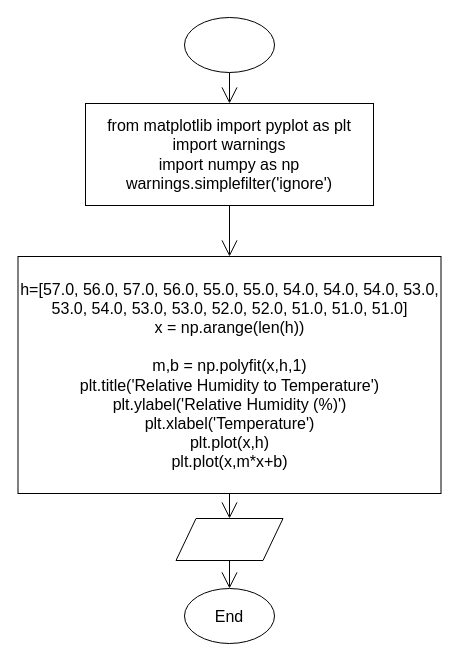
Image size: 458x661. Some labels were removed from this diagram. The box of each missing label's shape, as (x1, y1, x2, y2) in pixels:
plt.show(): (175, 518, 283, 560)
Start: (184, 16, 274, 72)
